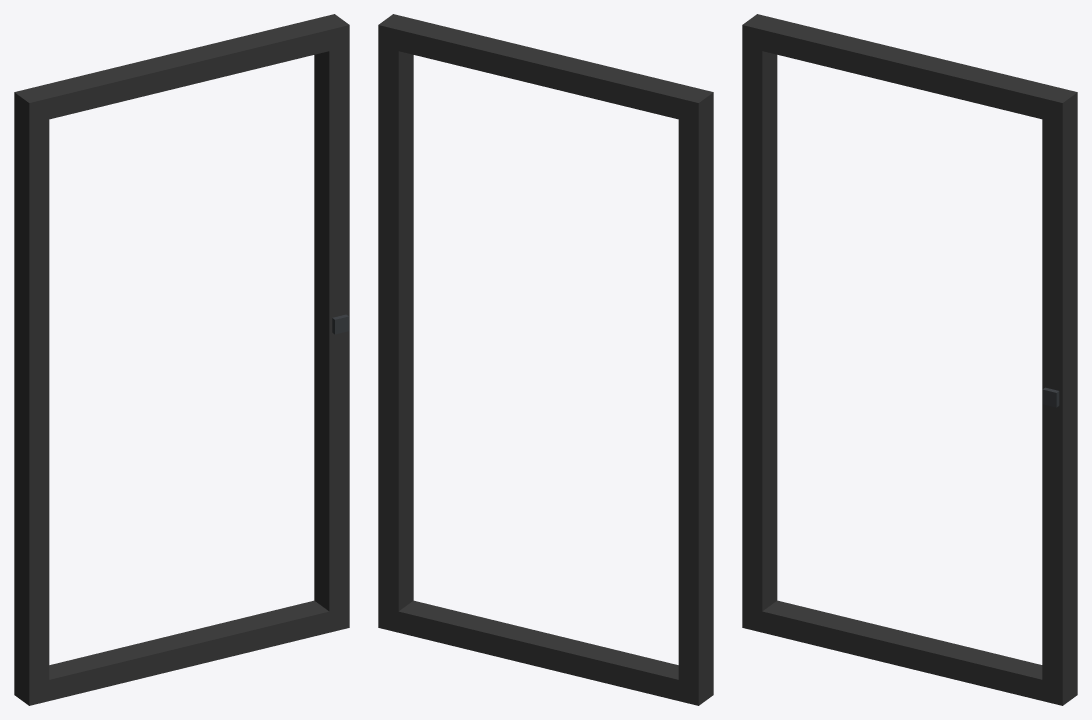
The model's file is Window6_03_3.fbx.
3 renders of one model, left to right at view 1: azimuth 30°, elevation 25°; view 2: azimuth 150°, elevation 25°; view 3: azimuth 330°, elevation 25°, orthographic.
Parts seen in each view (by area): view 1: Window6_03_3; view 2: Window6_03_3; view 3: Window6_03_3.
Part boxes in pixels (bbox=[...]): Window6_03_3: bbox=[14, 14, 349, 705]; Window6_03_3: bbox=[378, 14, 713, 705]; Window6_03_3: bbox=[742, 14, 1077, 705].
Size of the model in its own units: 63.23 by 114 by 6.05.
